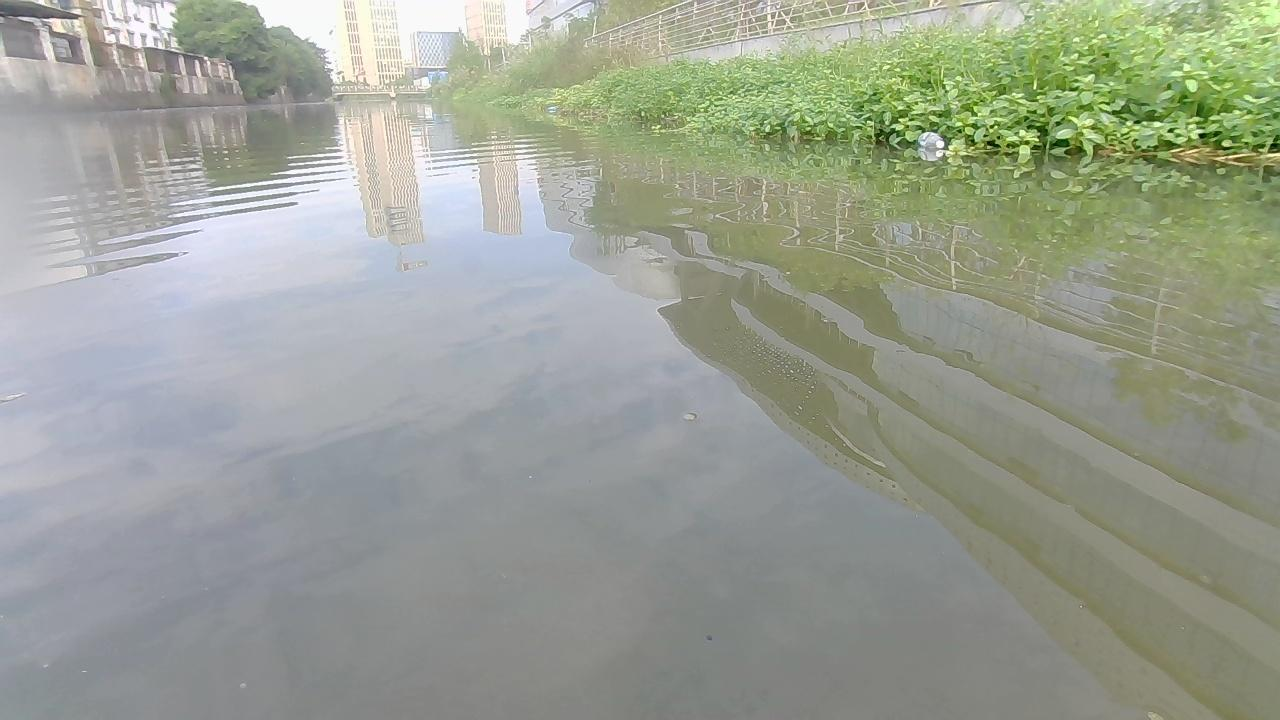bottle: (919, 132, 946, 149)
